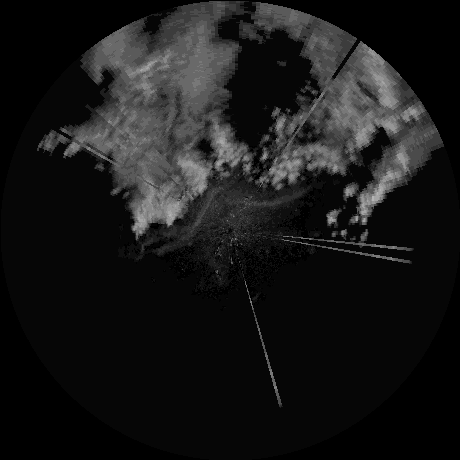frontgust: (144, 185, 227, 254), (238, 181, 319, 208)
